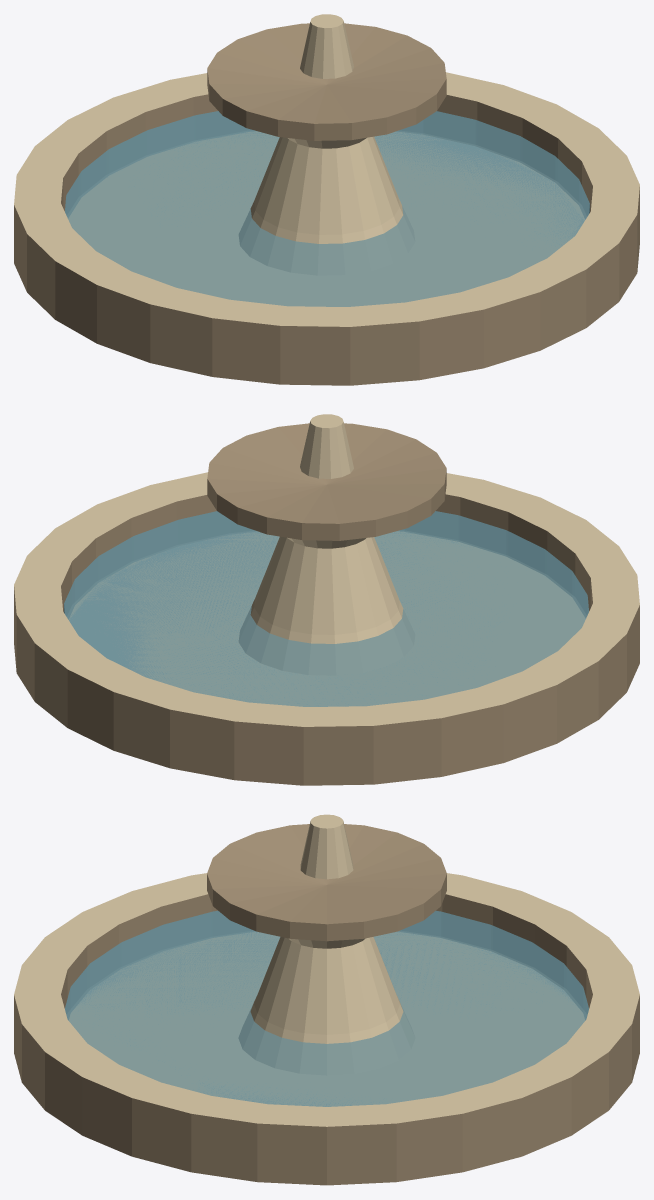
File: fountain.glb
3 renders of one model, top to bottom at view 1: azimuth 30°, elevation 25°; view 2: azimuth 150°, elevation 25°; view 3: azimuth 270°, elevation 25°, orthographic.
Parts seen in each view (by area): view 1: SM_ENV_fountain; view 2: SM_ENV_fountain; view 3: SM_ENV_fountain.
Boxes of the visible parts, bbox=[...] form: SM_ENV_fountain: bbox=[14, 14, 639, 385]; SM_ENV_fountain: bbox=[14, 414, 639, 785]; SM_ENV_fountain: bbox=[14, 814, 639, 1185].
Bounding box in the file's own units: 6 × 2.45 × 6.
